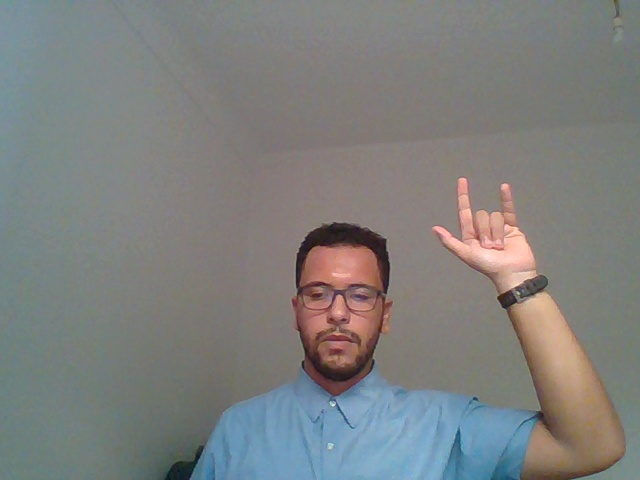iloveyou: (423, 148, 595, 432)
